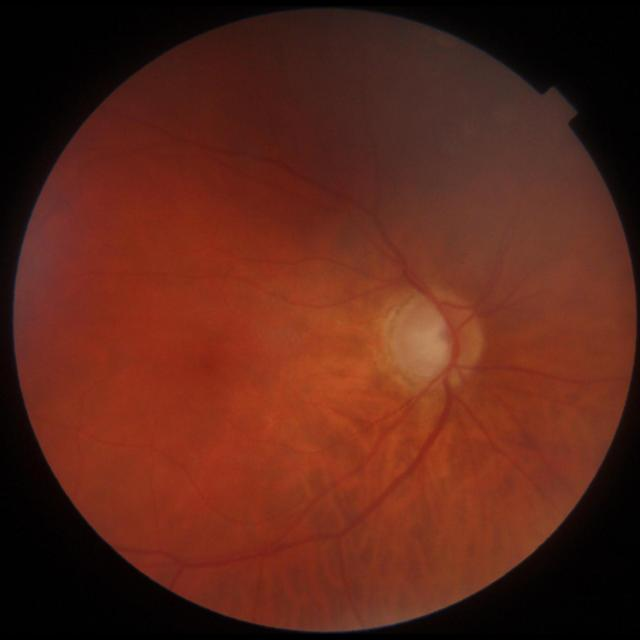OC: (414, 319, 451, 363)
OD: (390, 290, 482, 389)
